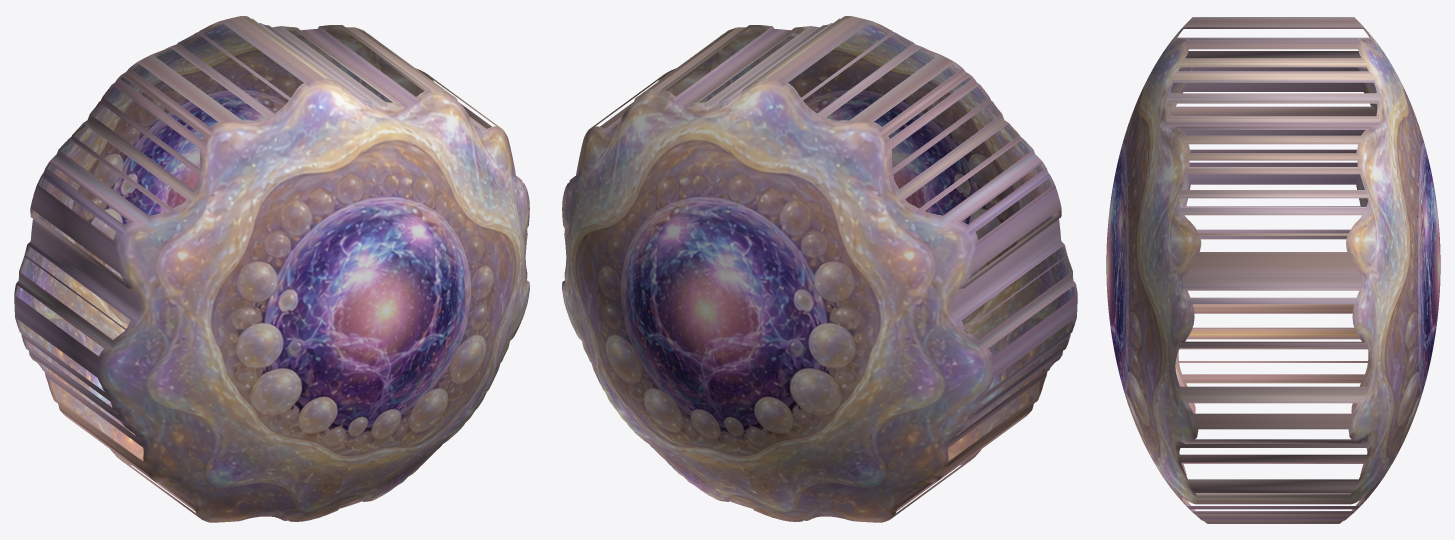
3 renders of one model, left to right at view 1: azimuth 30°, elevation 25°; view 2: azimuth 150°, elevation 25°; view 3: azimuth 270°, elevation 25°, orthographic.
Visible parts, largest first — view 1: cells:7; view 2: cells:7; view 3: cells:7.
Part boxes in pixels (x1,y1,x2,y2): cells:7: (14,16,529,522); cells:7: (562,16,1077,522); cells:7: (1106,17,1440,523).
Size of the model in its own units: 0.9885 by 0.9574 by 0.6599.
1 material, 1 textured.
